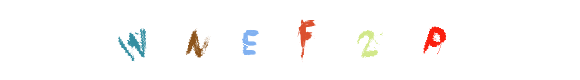2: (291, 0, 371, 80)
E: (223, 0, 303, 80)
F: (250, 0, 330, 80)
N: (174, 0, 254, 80)
P: (394, 0, 474, 80)
W: (94, 0, 174, 80)
